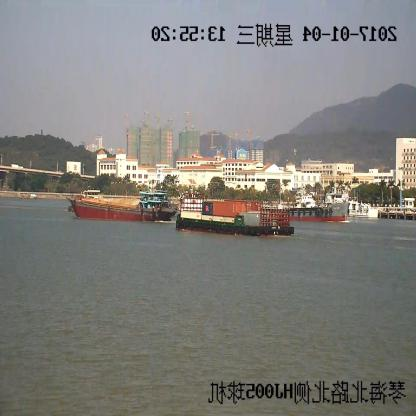Bulk Carrier: (68, 196, 173, 221), (292, 188, 350, 221)
